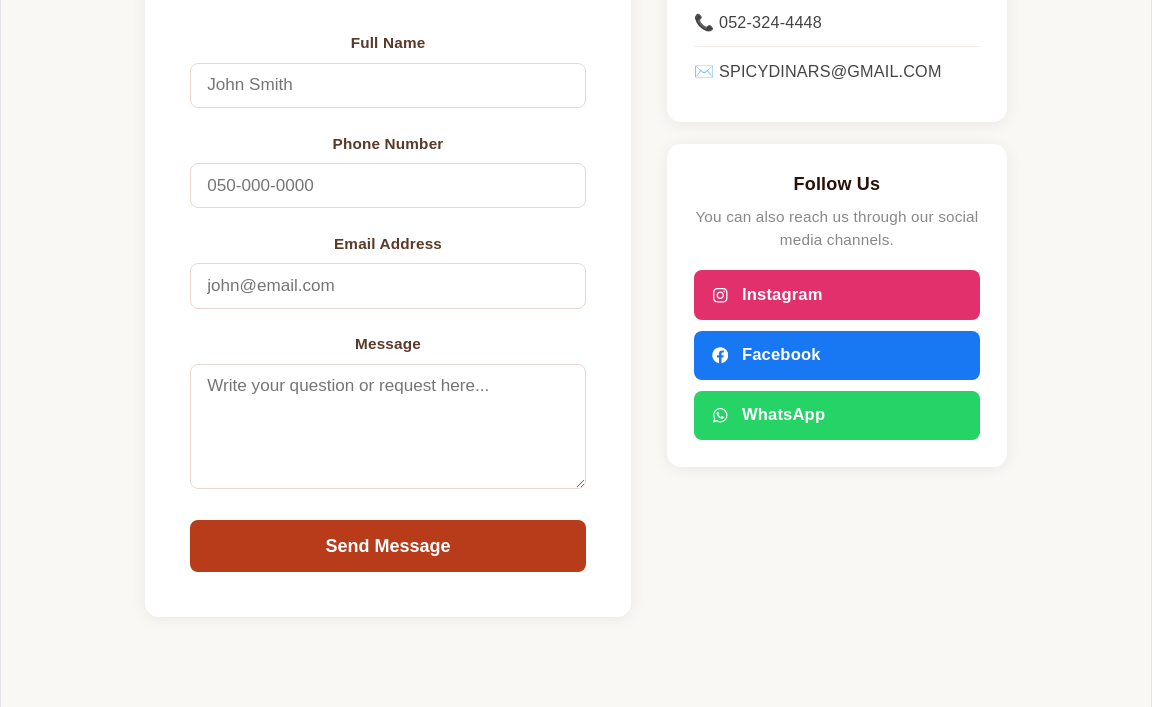
Test: shows validation errors when submitting empty form
This screenshot has width=1152, height=707.
(page scrolled)
Click the button "Send Message" at [388, 546], box [190, 520, 586, 572]
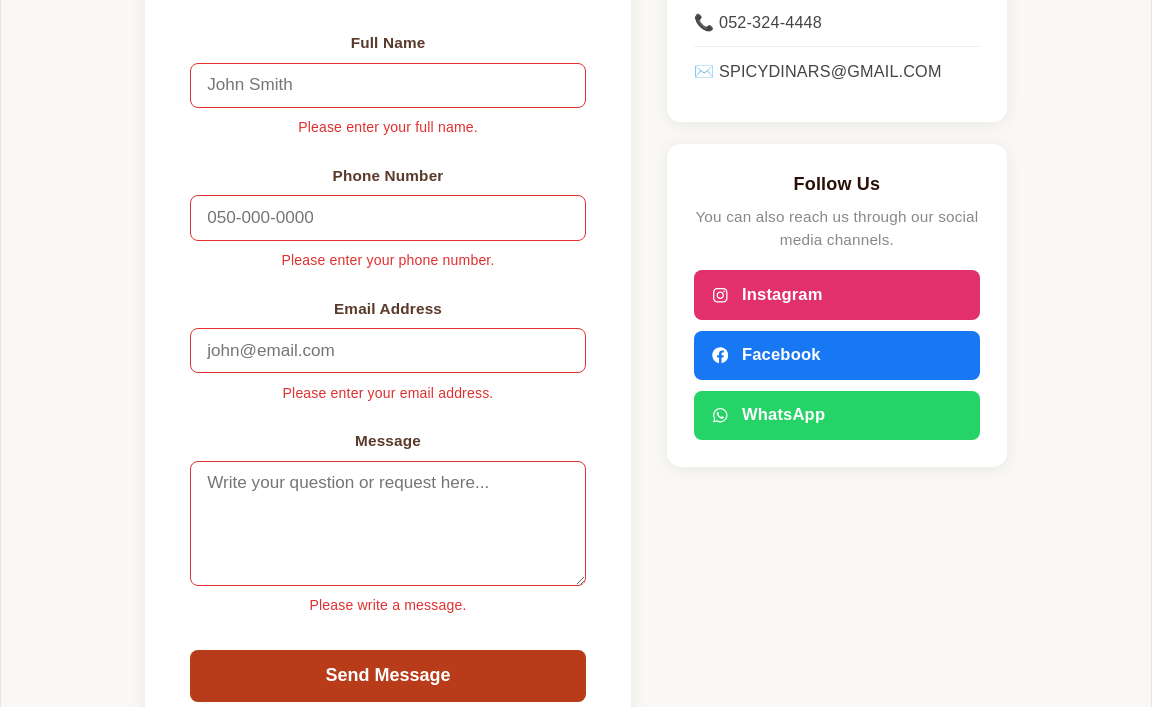
Now the text "Please enter your full name." is shown, box [298, 119, 478, 135]
